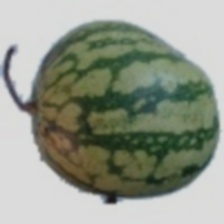watermelon: (22, 14, 176, 182)
